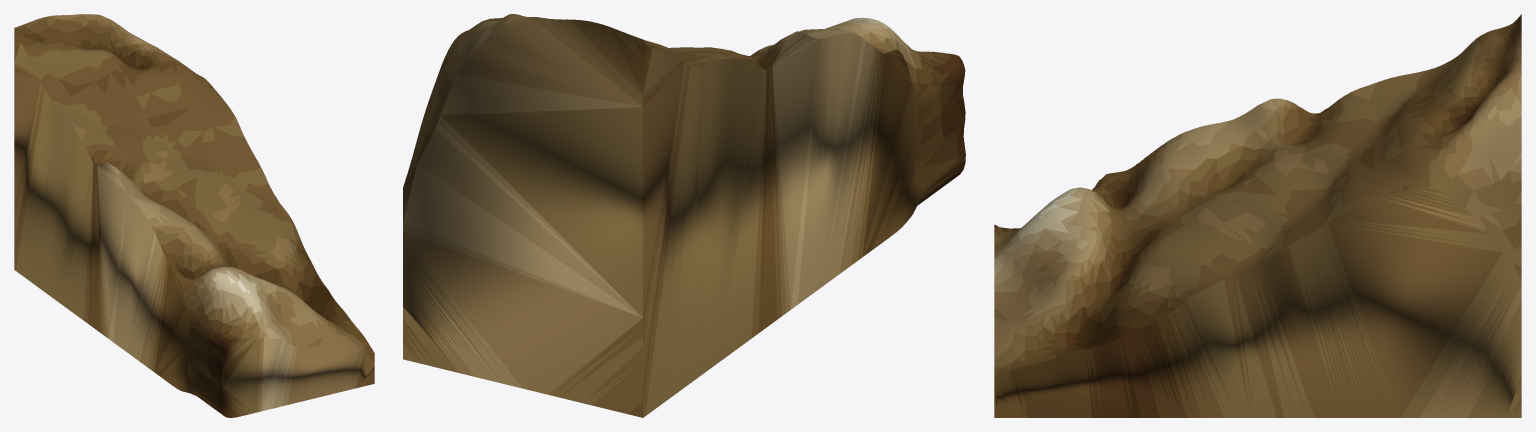
File: rock_arch_281.glb
3 views of the same model, side by side, from view 1: azimuth 30°, elevation 25°; view 2: azimuth 150°, elevation 25°; view 3: azimuth 270°, elevation 25° (orthographic). The views are drawn at different scales.
Visible parts, largest first — view 1: rock_arch_281; view 2: rock_arch_281; view 3: rock_arch_281.
Part boxes in pixels (x1,y1,x2,y2): rock_arch_281: (14,14,374,417); rock_arch_281: (403,14,965,417); rock_arch_281: (994,14,1521,417).
Bounding box in the file's own units: 12 × 18.33 × 28.
